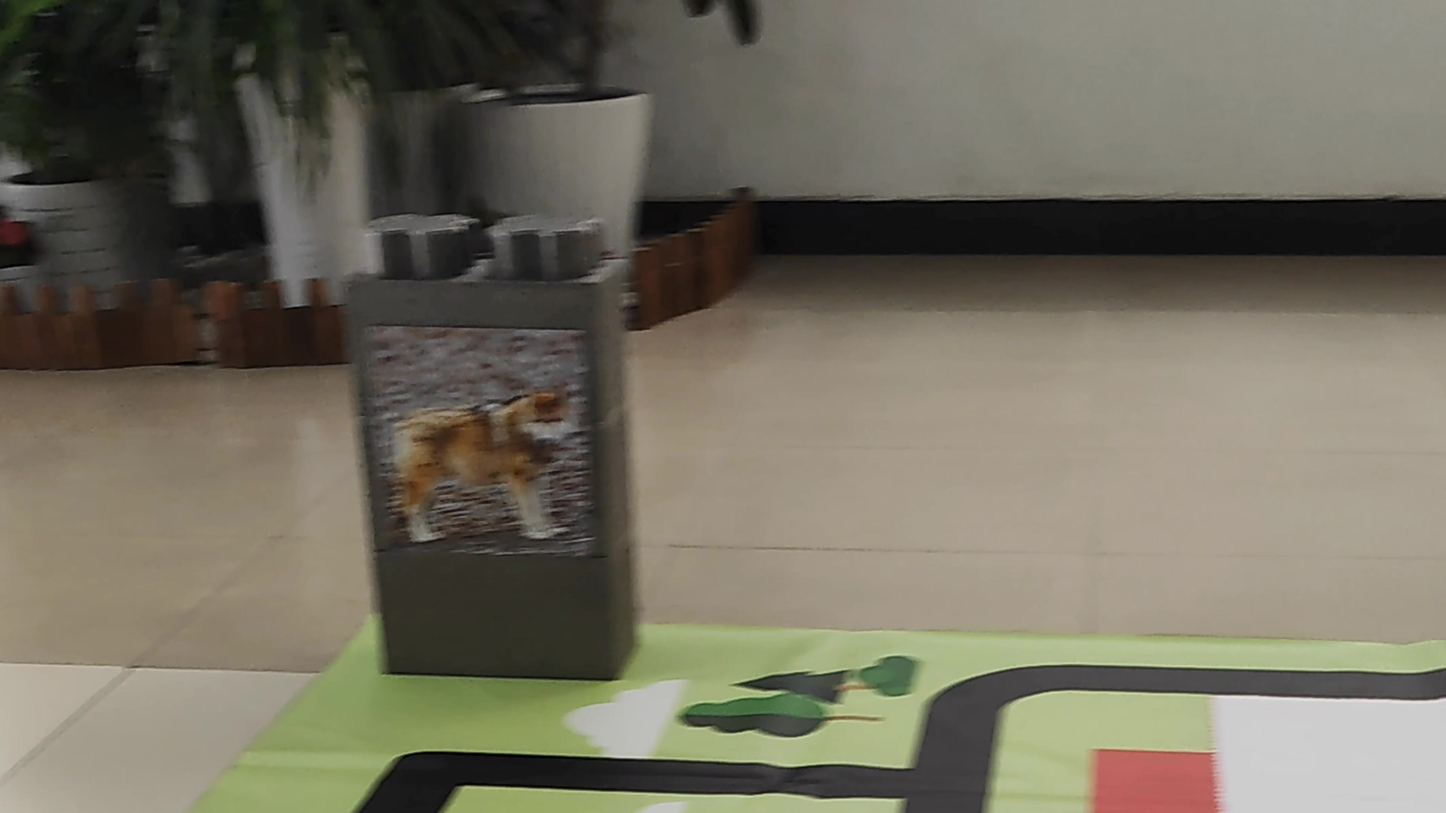wolf: (380, 370, 593, 572)
